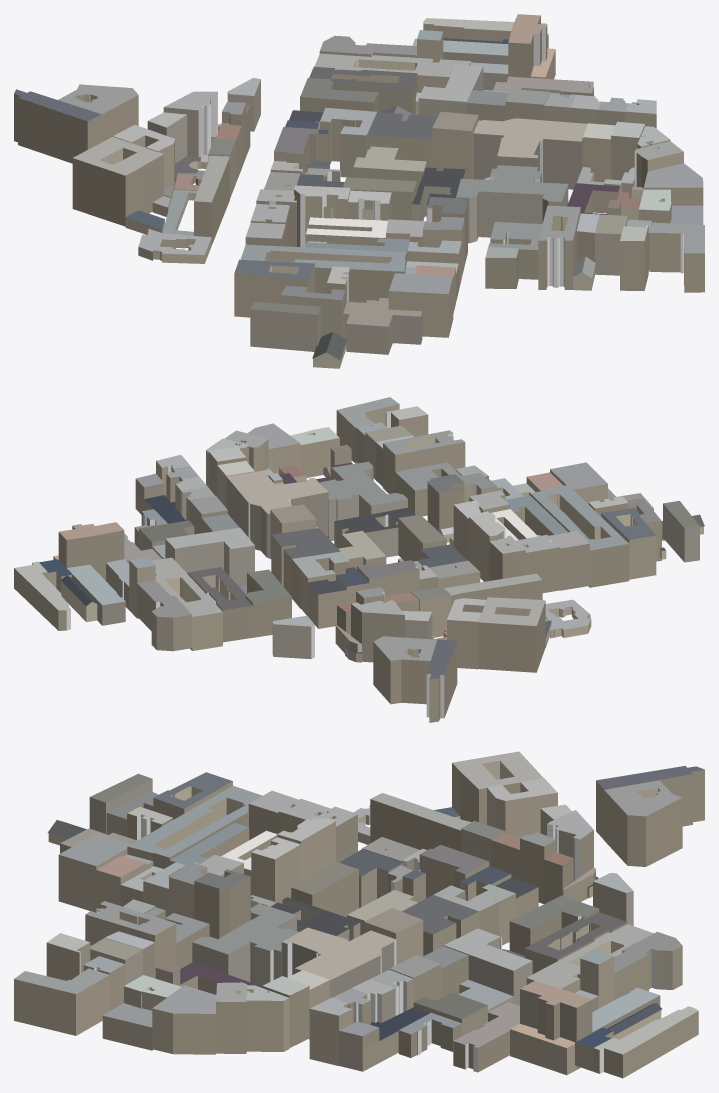
3 views of the same model, one above another, from view 1: azimuth 30°, elevation 25°; view 2: azimuth 150°, elevation 25°; view 3: azimuth 270°, elevation 25° (orthographic). The views are drawn at different scales.
Visible parts, largest first — view 1: tuile; view 2: tuile; view 3: tuile.
Part boxes in pixels (x1,y1,x2,y2): tuile: [14, 14, 704, 368]; tuile: [14, 397, 704, 722]; tuile: [14, 751, 704, 1078].
Bounding box in the file's own units: 276 × 34.02 × 296.
